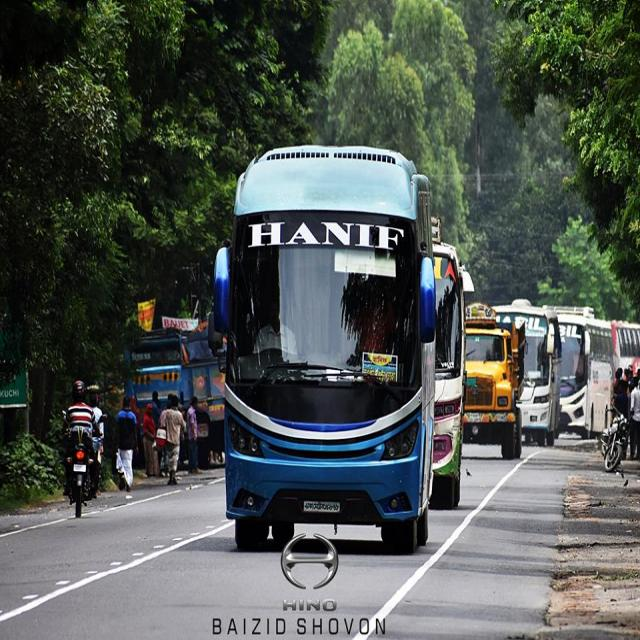bus: (215, 148, 436, 555)
